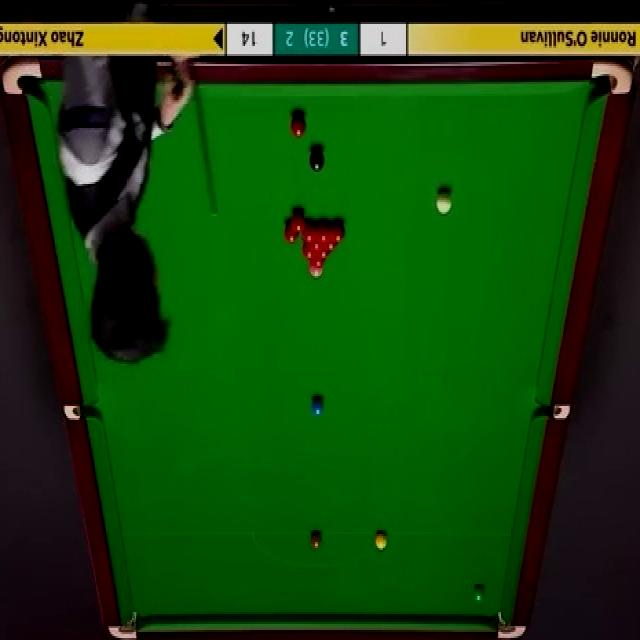pocket: (0, 57, 45, 98), (592, 58, 632, 97), (108, 608, 140, 640), (494, 611, 528, 640), (63, 403, 100, 422), (538, 406, 574, 419)
